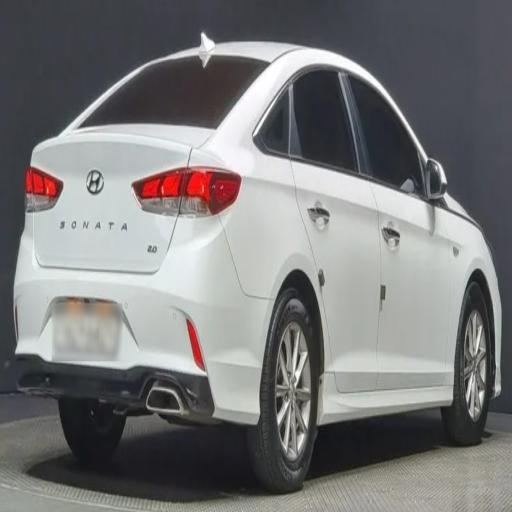dent: (310, 311, 461, 433)
